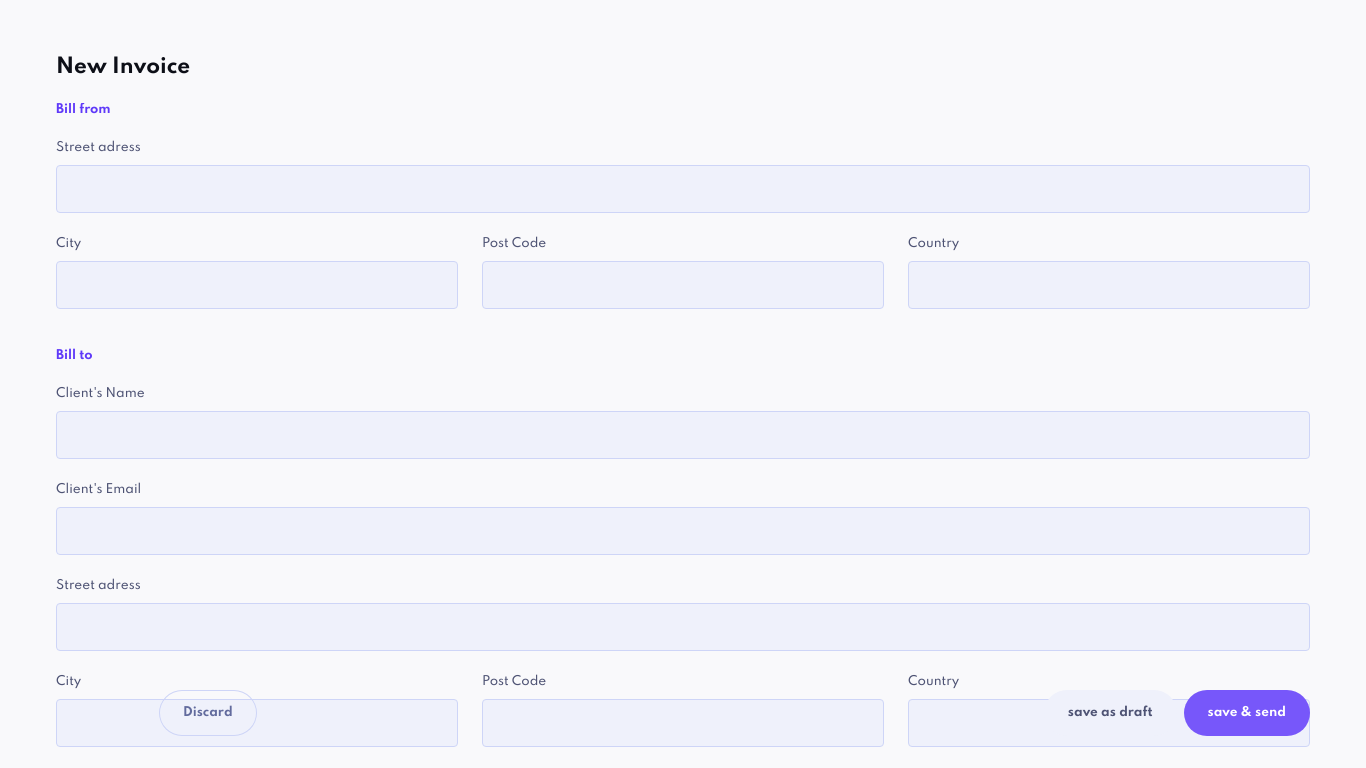
Test: InvoiceForm component › Invalidates form when 'save & send' button is clicked and inputs are empty
Expected: the heading "New Invoice" is shown, top-left (56, 56), bottom-right (190, 78)
Click the button "save & send".
click(1247, 713)  # box top-left (1184, 690), bottom-right (1310, 736)
(page scrolled)
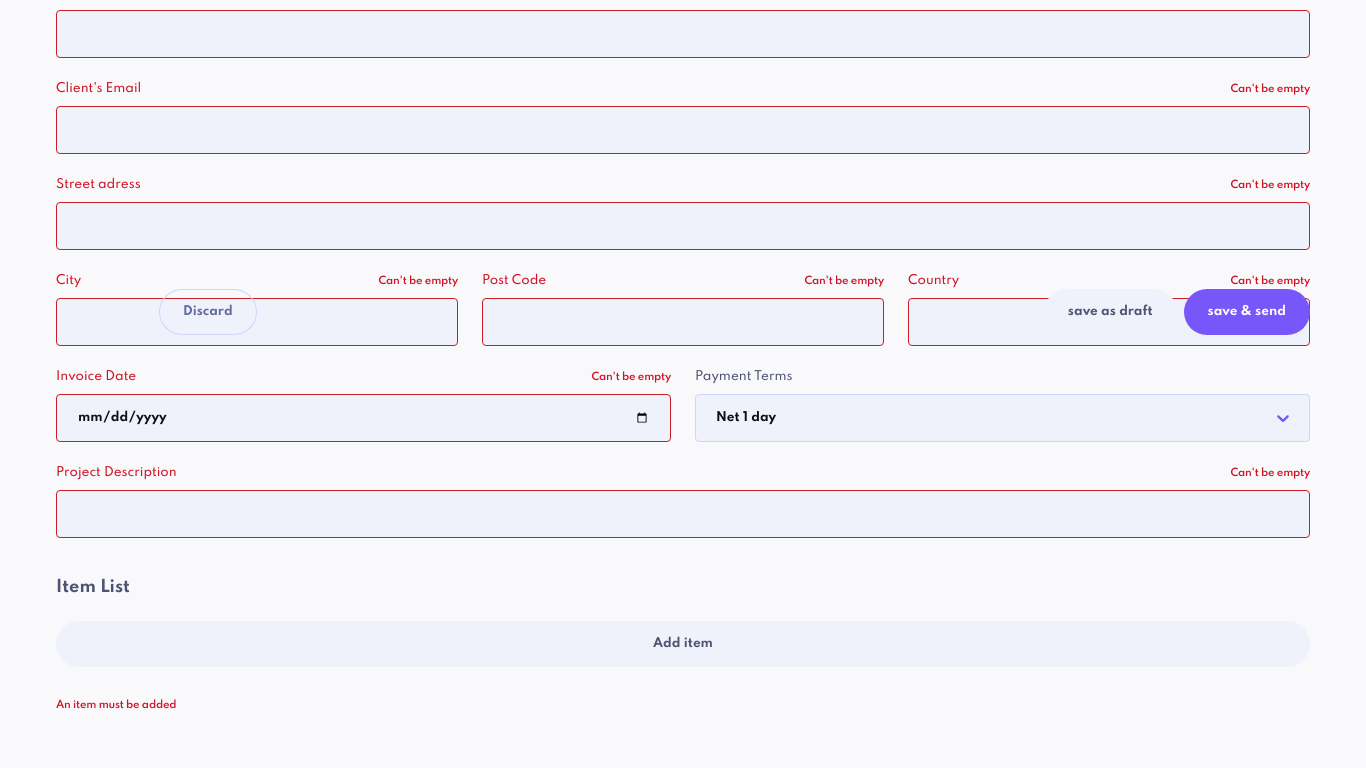
Result: the text "can't be empty" is shown 12 times
Result: the text "An item must be added" is shown at top-left (56, 699), bottom-right (176, 711)
